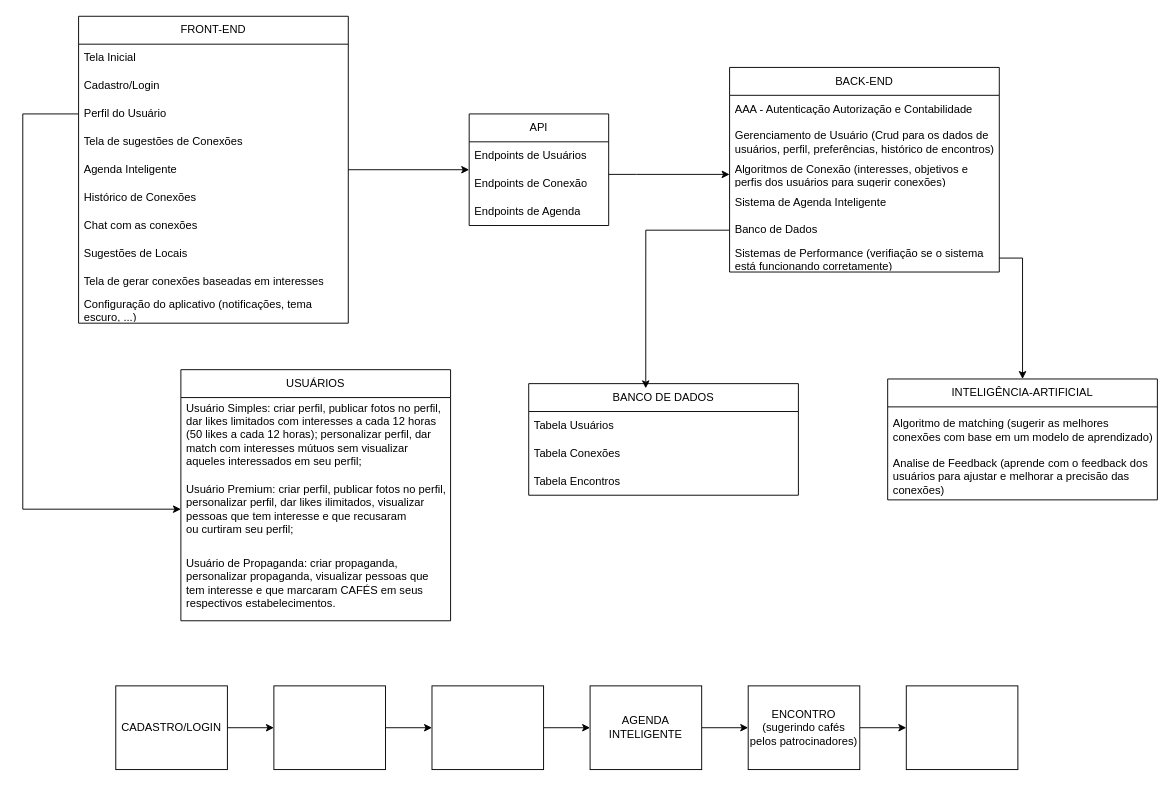
The diagram is 1174 pixels wide and 786 high, and some of its shapes have lost their labels. The centre of each missing label's shape, as x and y in pixels:
"CONEXÕES PERSONALIZADAS (sugerida por IA com base no perfil do usuário)" goes at (x=487, y=727).
"CRIAÇÃO DE PERFIL" goes at (x=329, y=727).
"FEEDBACK (com beneficio)" goes at (x=961, y=727).
